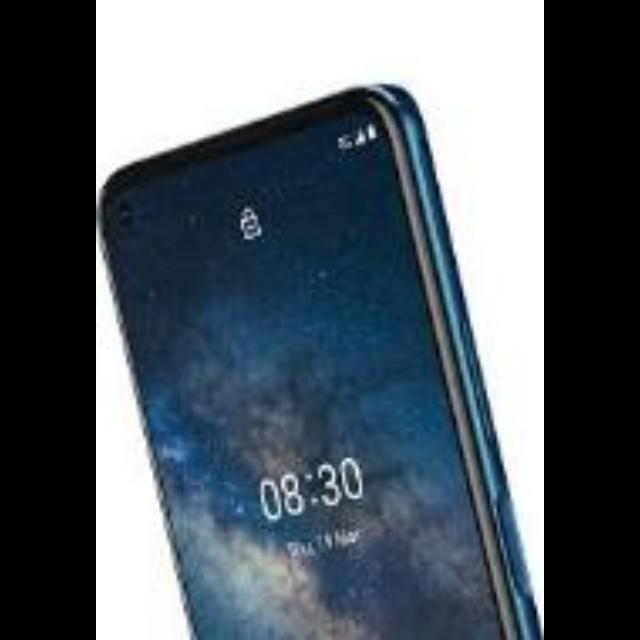phone: (113, 75, 525, 638)
